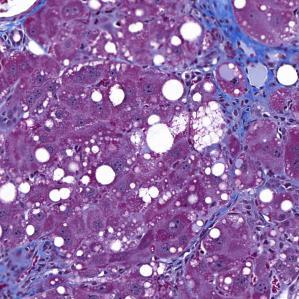fibrosis: (196, 7, 277, 120), (7, 236, 69, 291)
